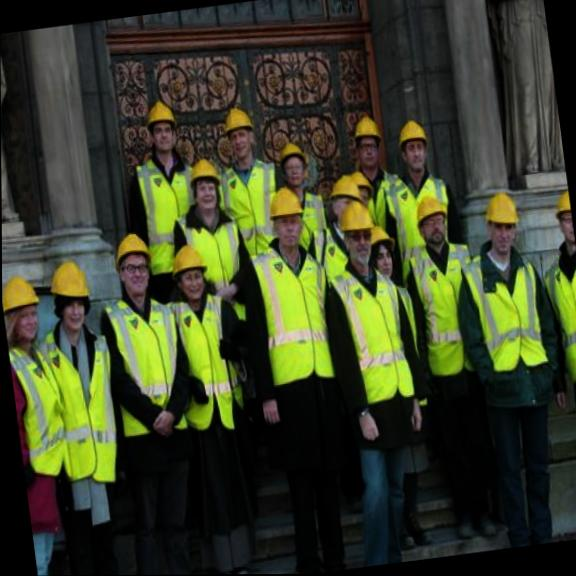safety_vest: (39, 321, 128, 492), (247, 232, 341, 390), (326, 254, 416, 410), (99, 294, 192, 439), (456, 239, 552, 375), (401, 236, 489, 382), (163, 291, 246, 437), (8, 339, 72, 480), (131, 151, 202, 278), (382, 166, 459, 283), (182, 209, 249, 326), (211, 160, 282, 259), (536, 235, 576, 381), (392, 279, 430, 411), (346, 164, 398, 231), (287, 183, 330, 251), (309, 221, 351, 286)
